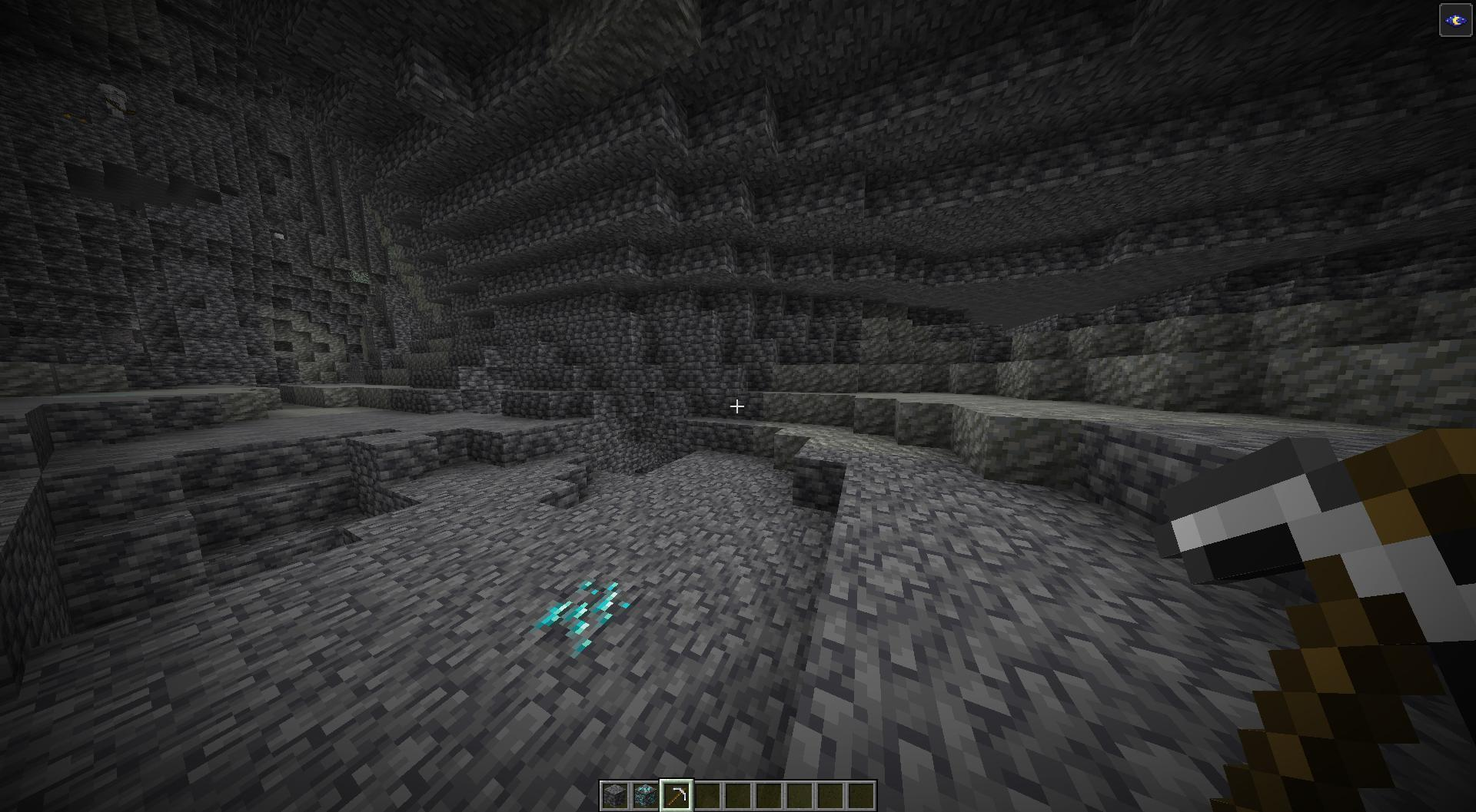diamond ore: (530, 574, 640, 657)
